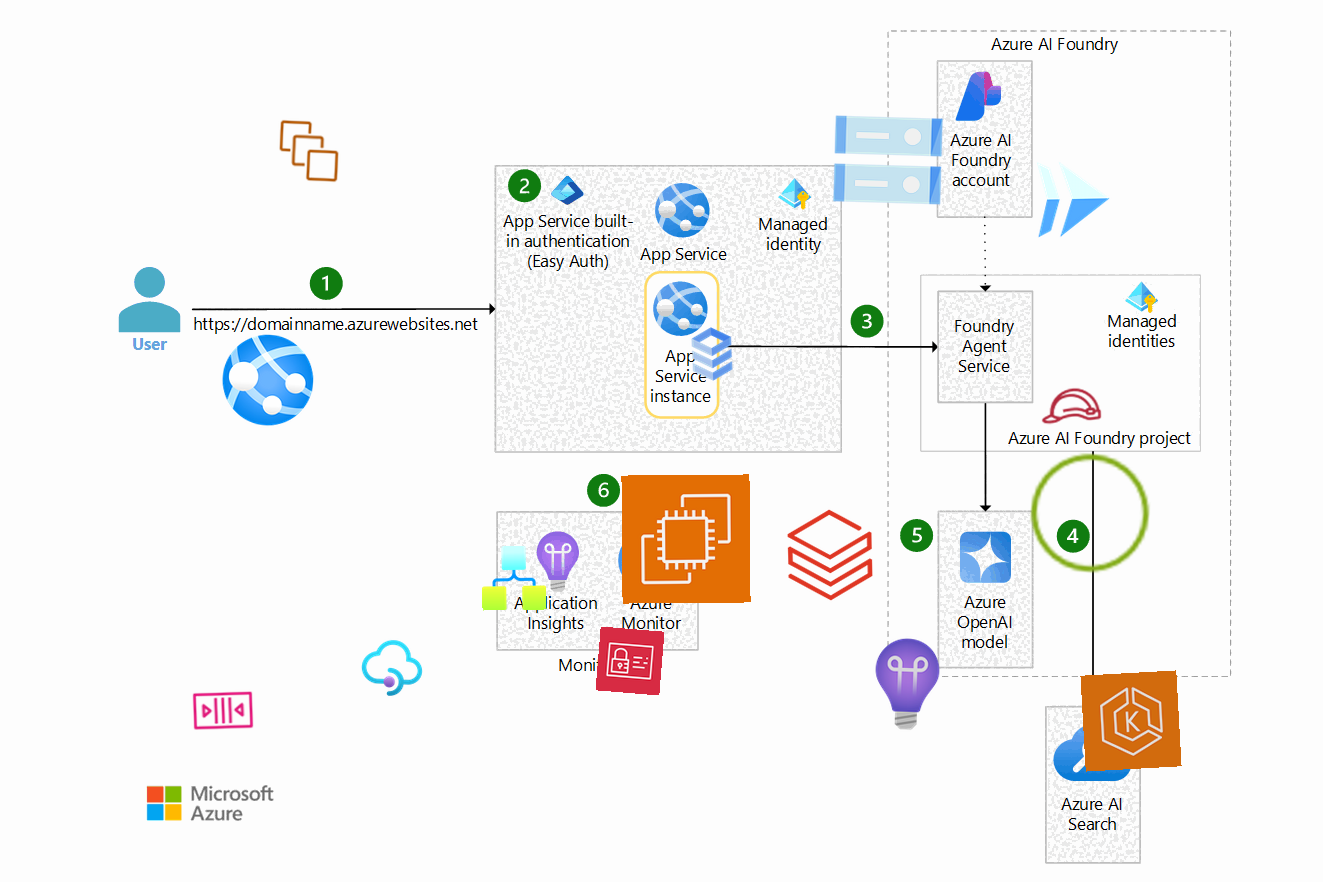aws_amazon_ec2: (621, 474, 751, 604)
aws_amazon_elastic_kubernetes_service: (1080, 670, 1182, 772)
aws_ec2_instances: (275, 117, 343, 185)
aws_identity_access_management_role: (1037, 372, 1105, 440)
aws_identity_and_access_management: (595, 626, 665, 696)
aws_simple_queue_service_queue: (189, 676, 257, 744)
aws_simple_storage_service_object: (1021, 444, 1159, 582)
azure_api_management_services: (358, 634, 426, 702)
azure_app_services: (216, 328, 320, 432)
azure_application_insights: (857, 634, 957, 734)
azure_databricks: (780, 505, 880, 605)
azure_logic_apps: (481, 545, 547, 611)
gcp_cloud_run: (1022, 149, 1122, 249)
gcp_cloud_sql: (678, 320, 746, 388)
gcp_cloud_storage: (822, 94, 954, 226)
